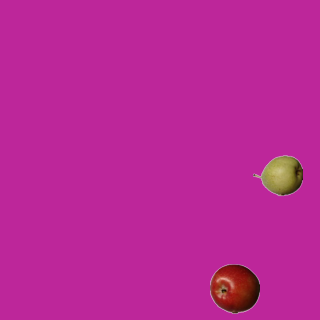Apple Braeburn: (209, 263, 259, 313)
Pear: (252, 150, 302, 200)
